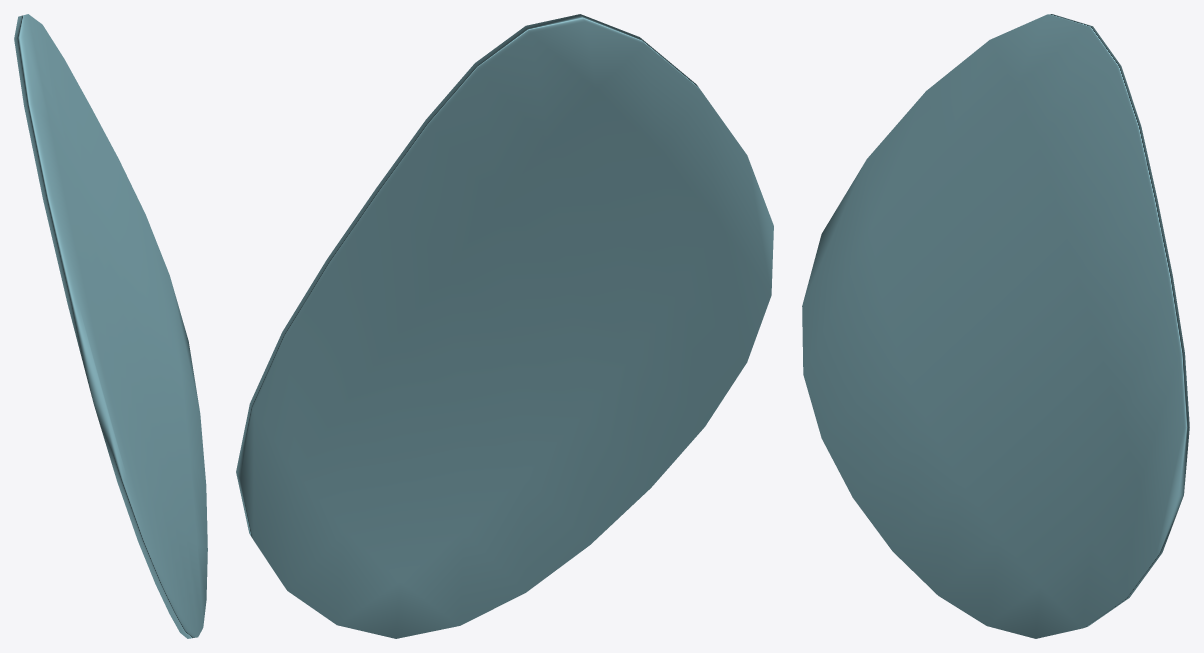
3 renders of one model, left to right at view 1: azimuth 30°, elevation 25°; view 2: azimuth 150°, elevation 25°; view 3: azimuth 270°, elevation 25°, orthographic. The views are drawn at different scales.
Visible parts, largest first — view 1: 左侧胸锁关节盘; view 2: 左侧胸锁关节盘; view 3: 左侧胸锁关节盘.
Boxes of the visible parts, <box> form: 左侧胸锁关节盘: <box>14,14,207,638</box>; 左侧胸锁关节盘: <box>236,14,773,638</box>; 左侧胸锁关节盘: <box>802,14,1189,638</box>.
Bounding box in the file's own units: 0.0229 × 0.0457 × 0.0293.
